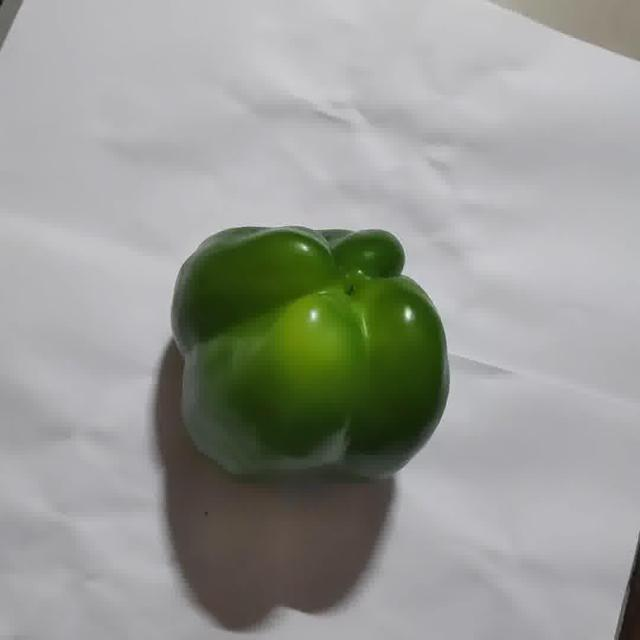Bell Pepper: (172, 226, 449, 476)
